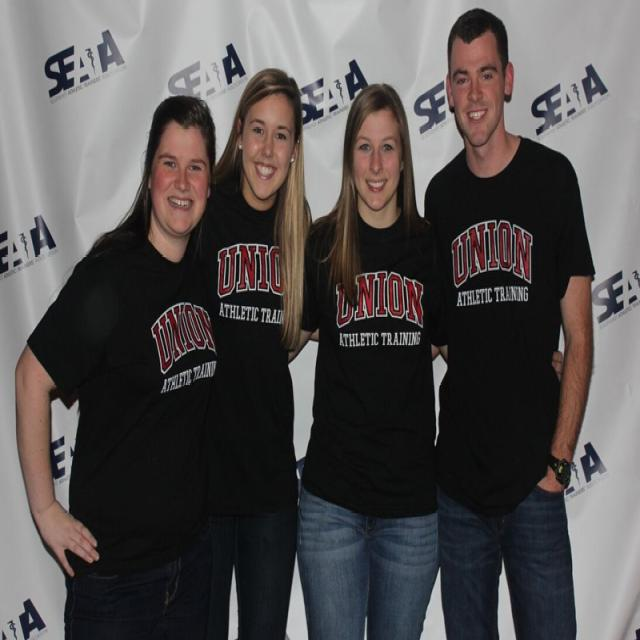body: (285, 80, 567, 640), (11, 86, 234, 638), (417, 0, 598, 640), (179, 66, 321, 640)
